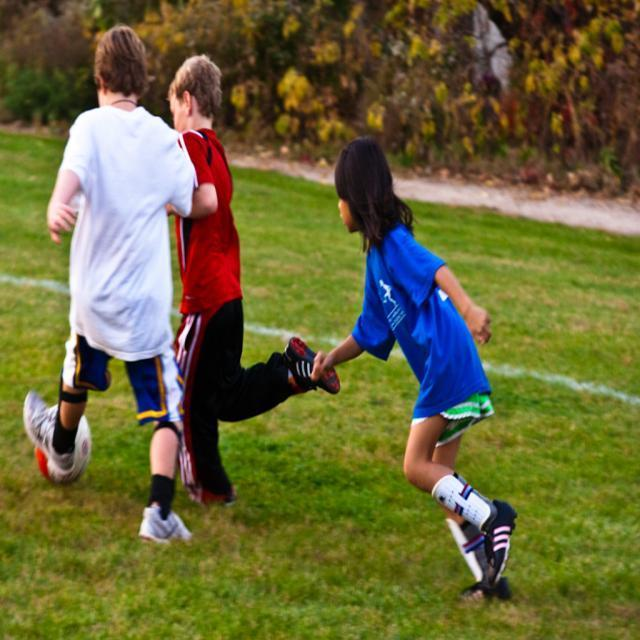football: (32, 392, 101, 497)
